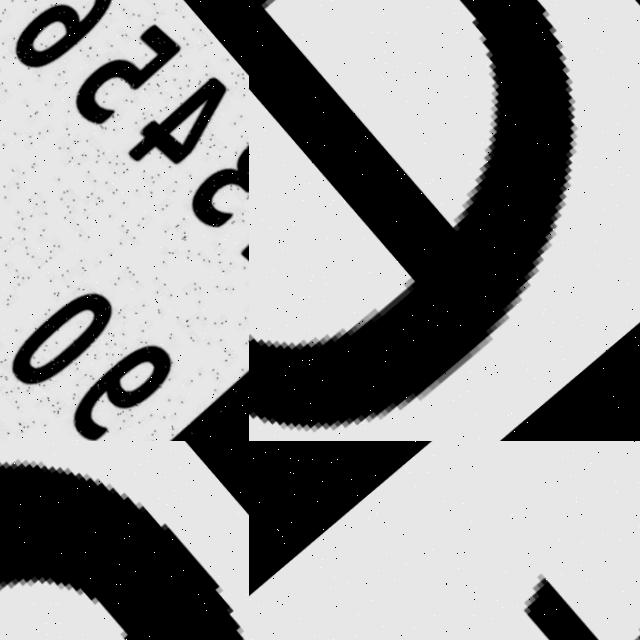0: (0, 247, 157, 423)
2: (210, 158, 249, 310)
3: (150, 97, 249, 263)
4: (92, 37, 249, 208)
5: (19, 0, 229, 167)
6: (0, 0, 169, 123)
7: (0, 0, 114, 73)
9: (19, 300, 218, 441)
E: (249, 0, 568, 429), (0, 464, 233, 640)
T: (249, 468, 640, 640)
